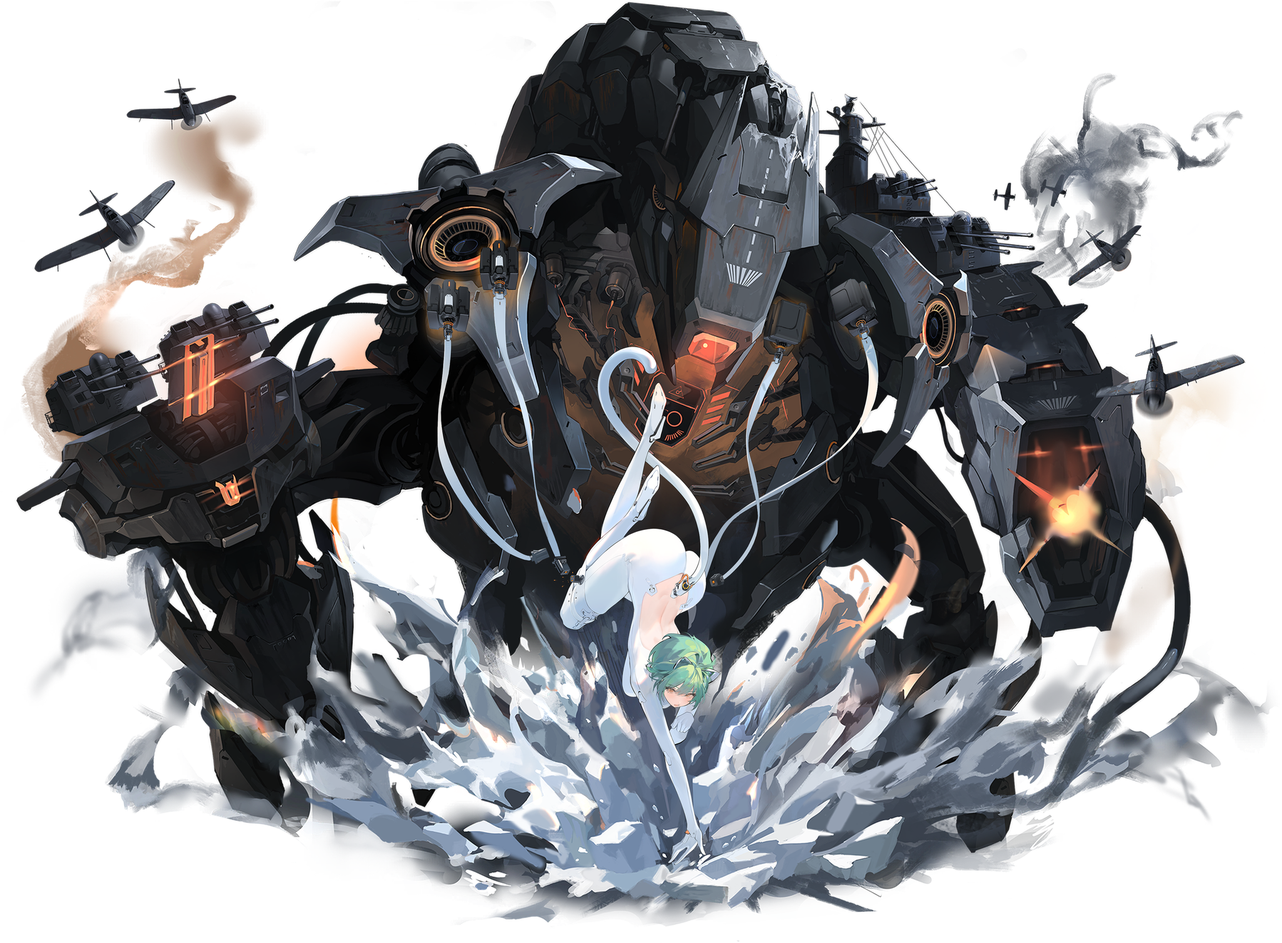person: (436, 26, 946, 828)
